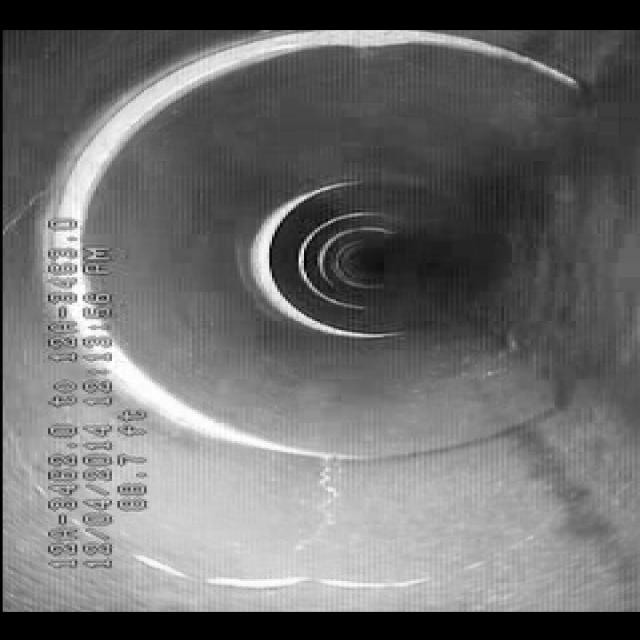Crack: (270, 448, 372, 558)
